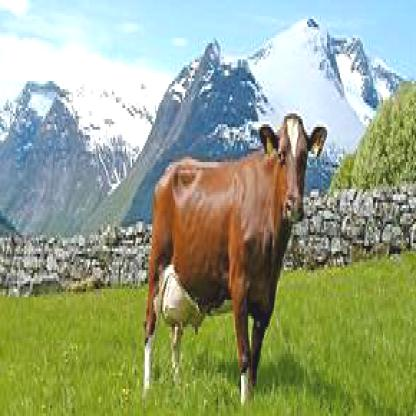cow: (144, 113, 327, 400)
